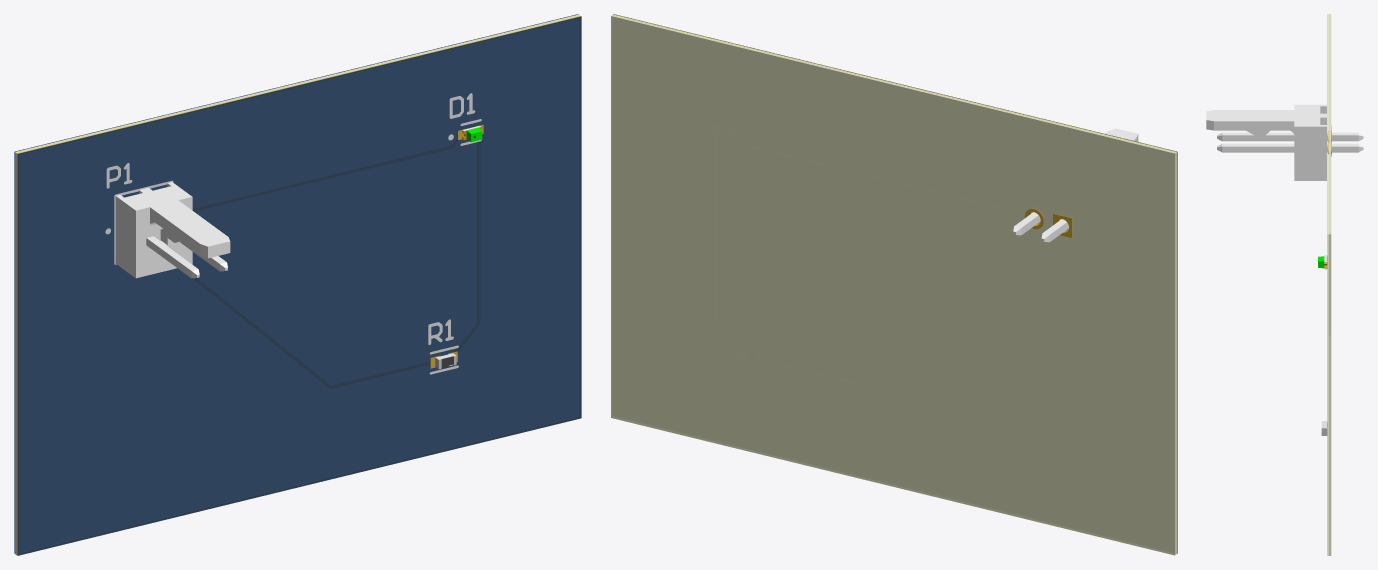
3 views of the same model, side by side, from view 1: azimuth 30°, elevation 25°; view 2: azimuth 150°, elevation 25°; view 3: azimuth 270°, elevation 25° (orthographic). The views are drawn at different scales.
Parts seen in each view (by area): view 1: Solder_Top, ComponentBody.10, Core, Top, Solder_Bottom, Track; view 2: Core, Track, ComponentBody.10, Solder_Top; view 3: ComponentBody.10, Core, Track.
Boxes of the visible parts, <box> form: Solder_Top: <box>17,16,581,555</box>; ComponentBody.10: <box>115,182,230,278</box>; Core: <box>15,14,580,555</box>; Top: <box>105,93,481,374</box>; Solder_Bottom: <box>14,14,578,553</box>; Track: <box>17,16,580,555</box>; Core: <box>611,14,1176,555</box>; Track: <box>613,14,1177,553</box>; ComponentBody.10: <box>1013,128,1138,242</box>; Solder_Top: <box>614,14,1177,553</box>; ComponentBody.10: <box>1206,104,1363,180</box>; Core: <box>1328,14,1331,555</box>; Track: <box>1327,14,1327,555</box>.
Size of the model in its own units: 5.05 by 3.44 by 1.53.
